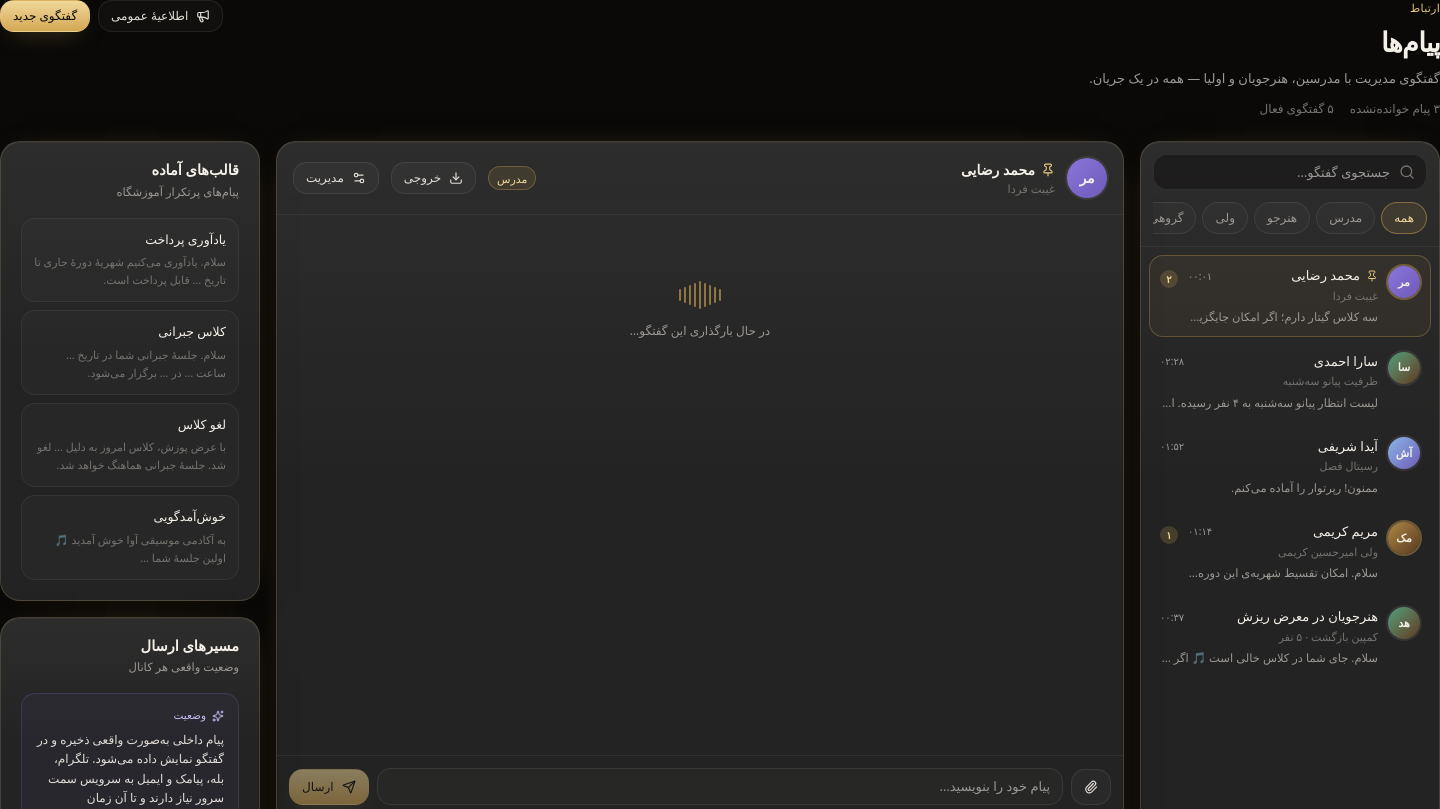
rename and topic › renames a conversation and the new name survives a fresh repository read
Click the 2nd text "محمد رضایی": (1326, 276) [1291,266,1360,286]
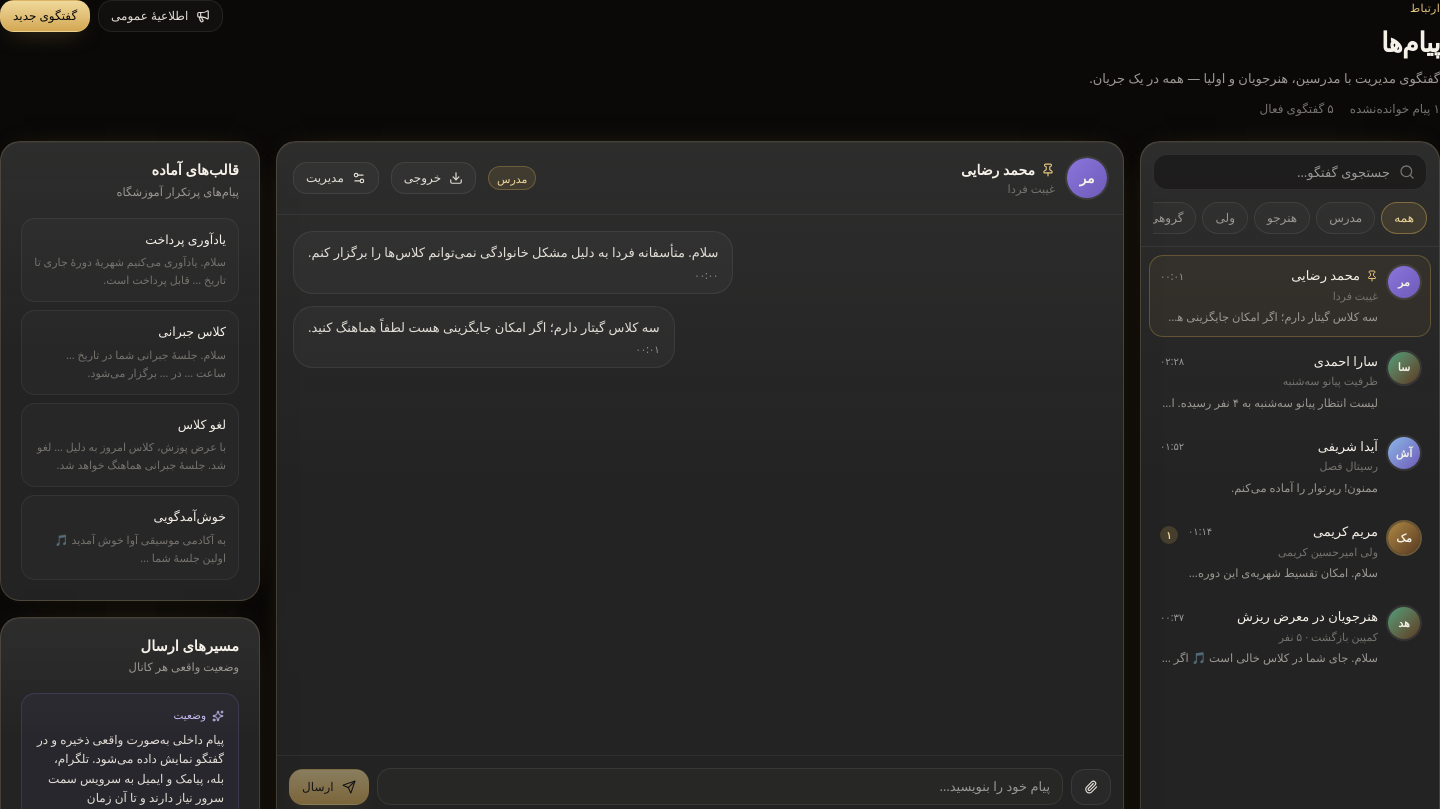
Click the button with aria-label "مدیریت گفتگو": (336, 178) [293,162,379,194]
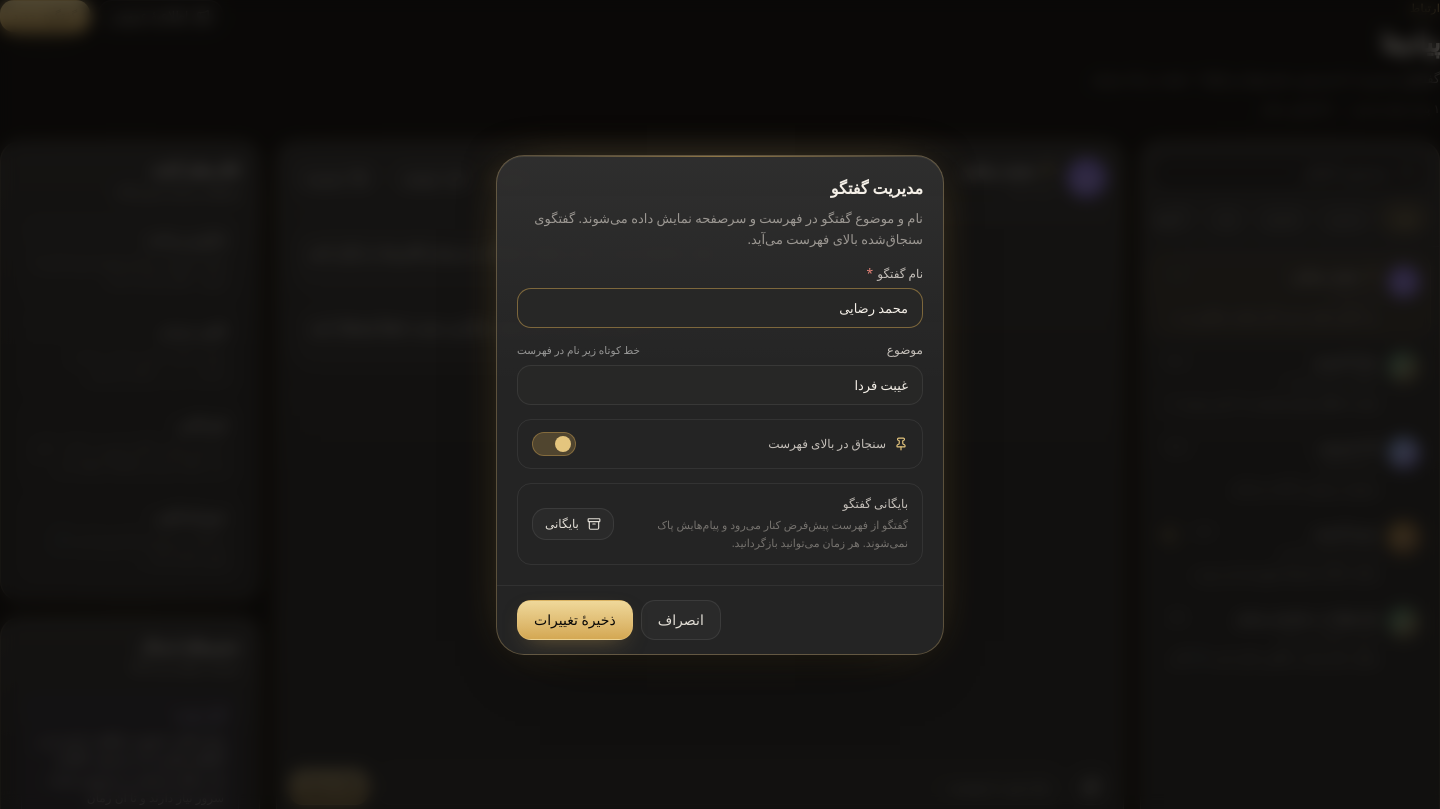
Replace the text in the field labelled "نام گفتگو*" with "ارکستر زهی": (720, 308) [517,288,923,328]
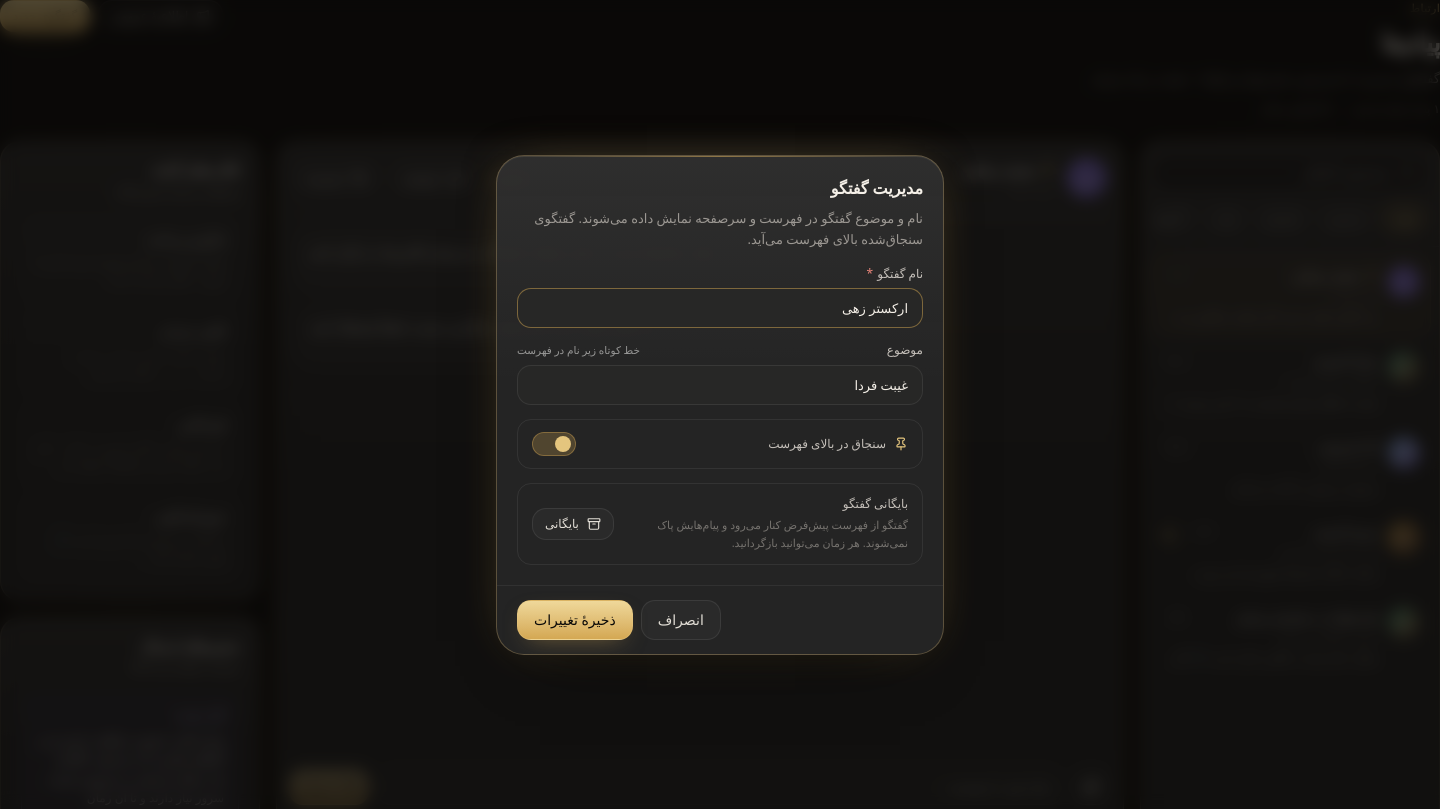
Click the button "ذخیرهٔ تغییرات": (575, 620) [517,600,633,640]
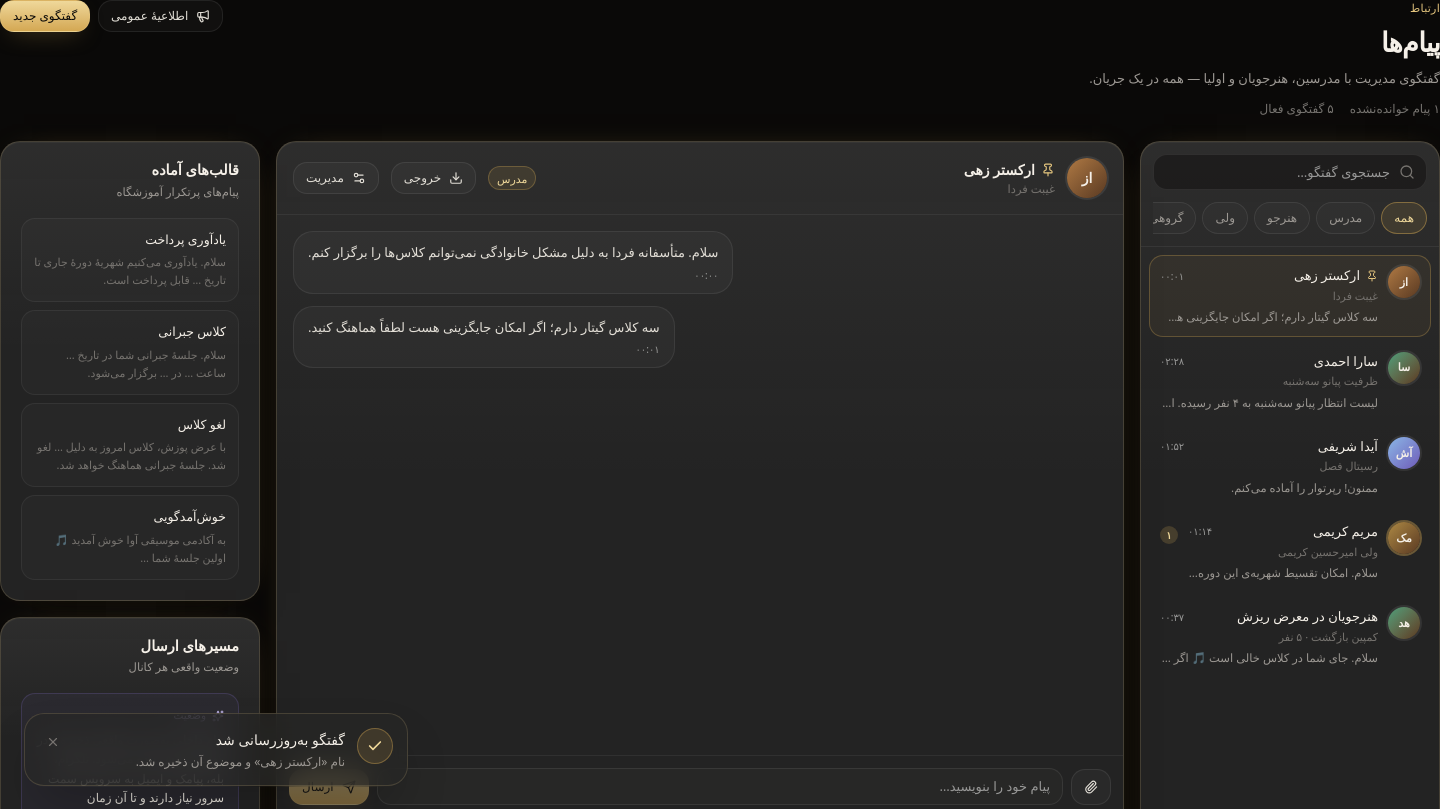
Expected: the 2nd text "ارکستر زهی" is shown, [1294,266,1360,286]
